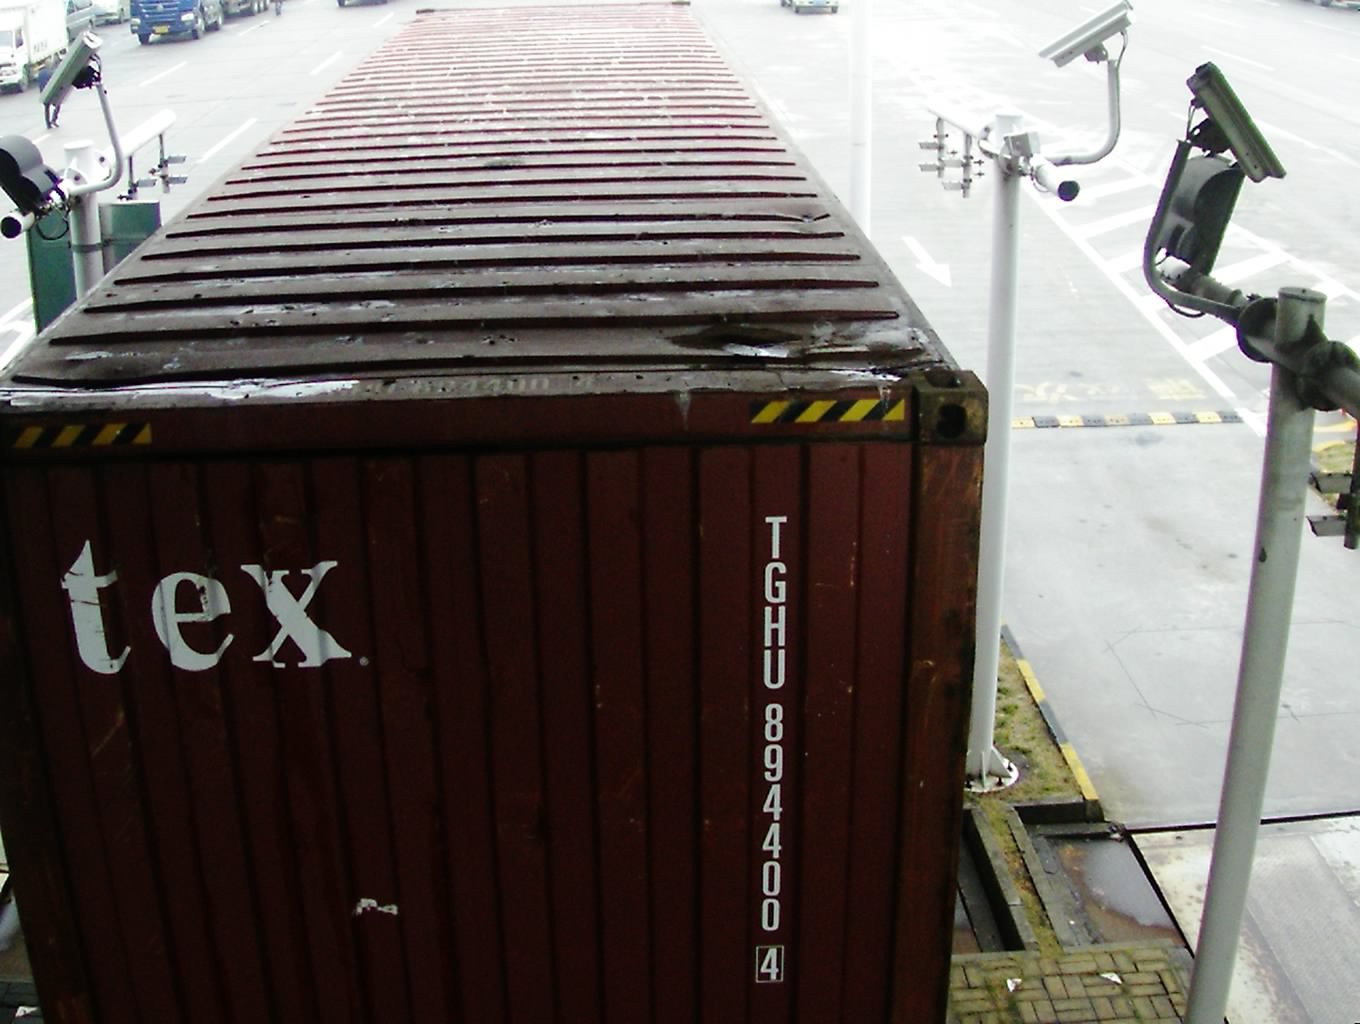words: (744, 504, 800, 989)
